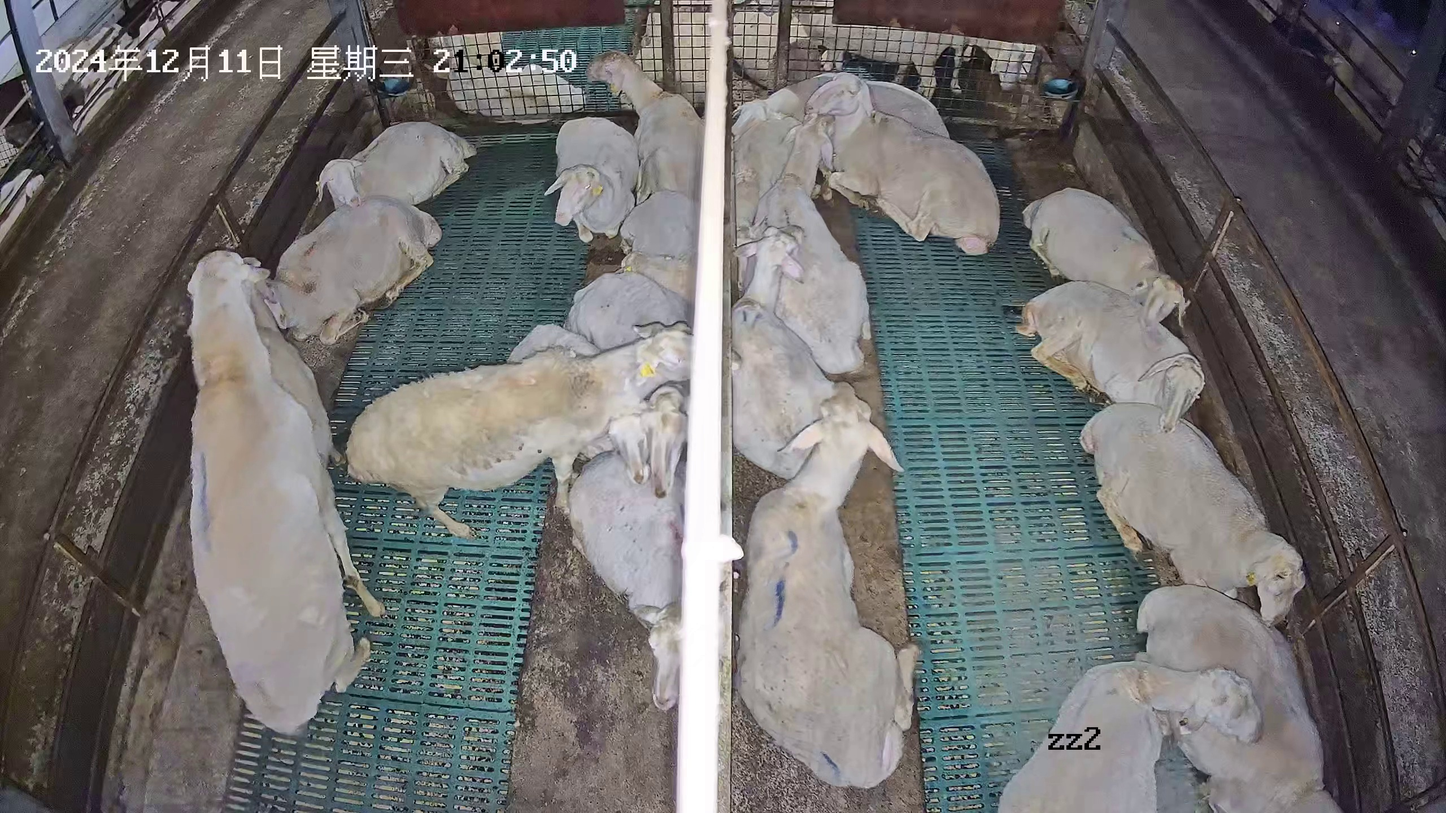Smounting: (185, 249, 390, 737)
mounted: (241, 253, 386, 619)
